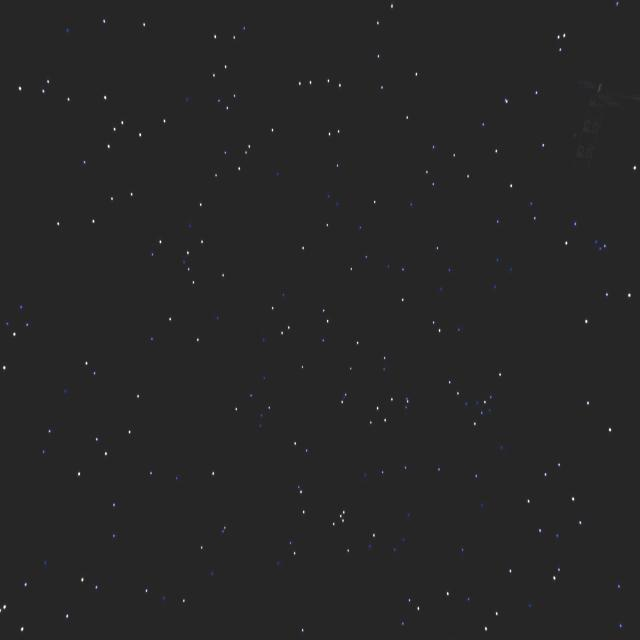medium_debris: (538, 53, 640, 162)
